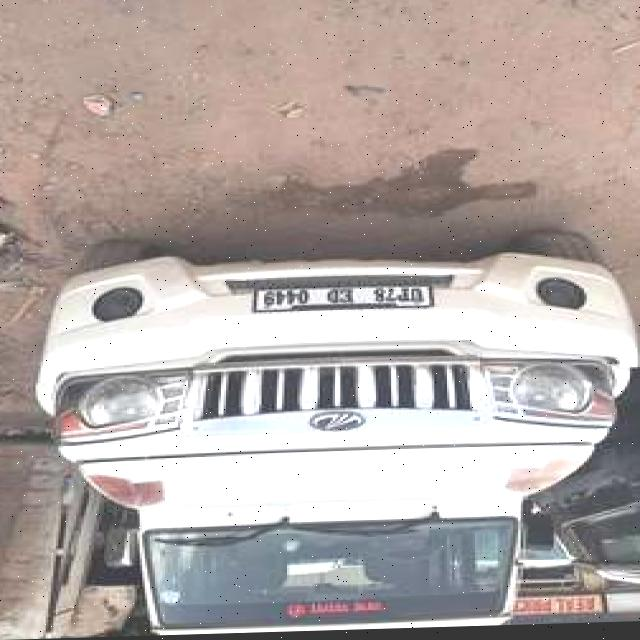plate: (249, 281, 436, 318)
